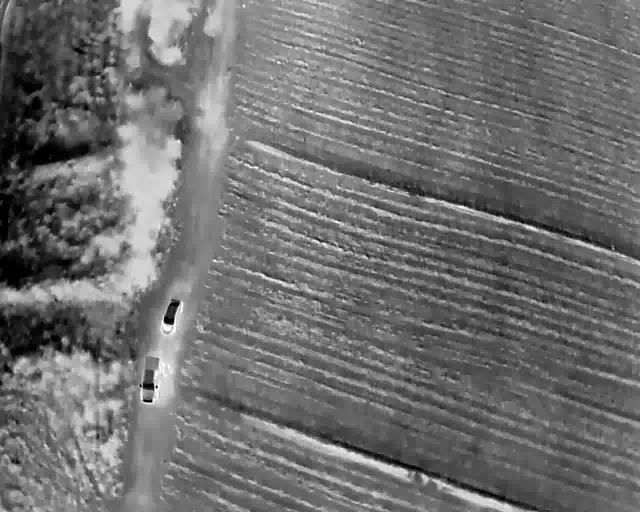car: (140, 354, 159, 404), (162, 297, 180, 334)
